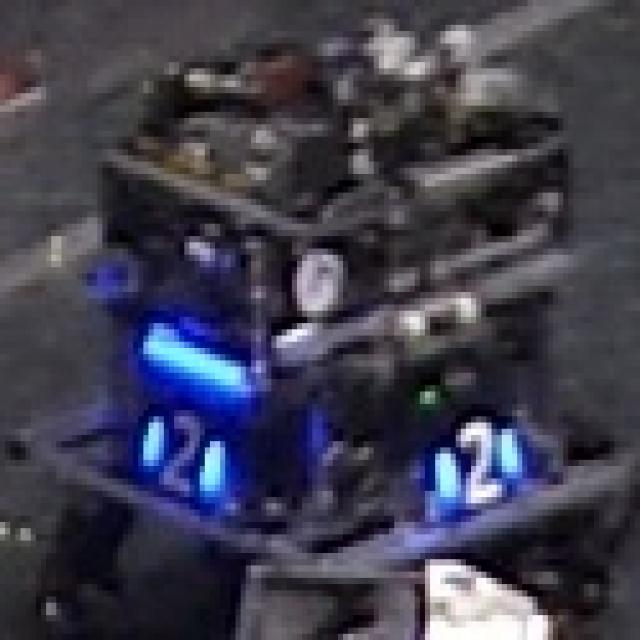B2: (133, 404, 236, 503), (425, 416, 527, 509)
